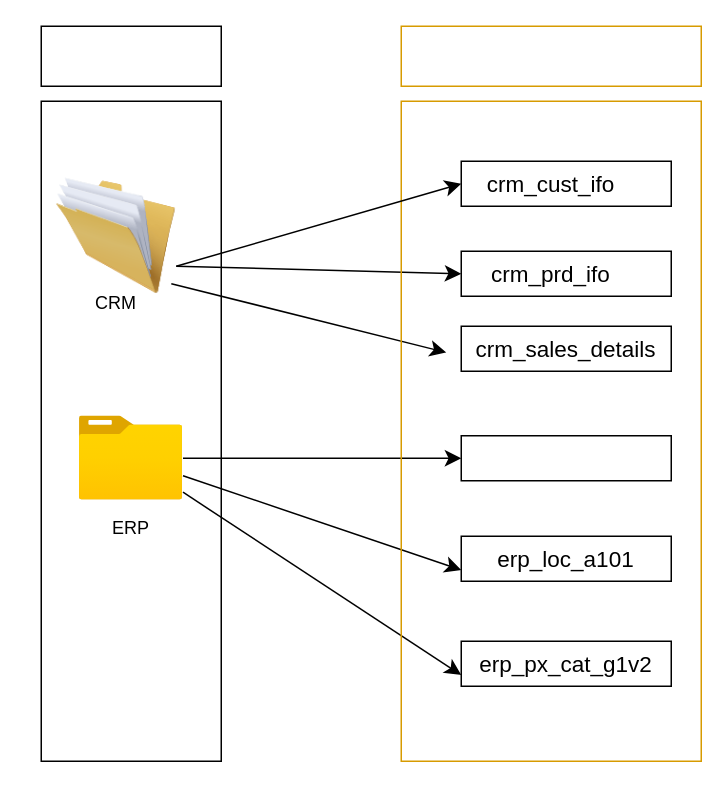
The diagram is 728 pixels wide and 788 high, and some of its shapes have lost their labels. Each missing label, with the centre of its shape:
Bronze layer: the point at 550,55
erp_cust_a101: the point at 565,457
Source: the point at 130,55
